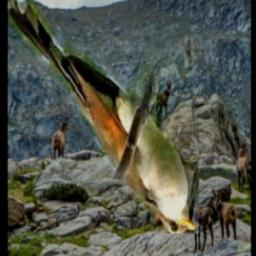Cuckoo: (9, 0, 200, 234)
